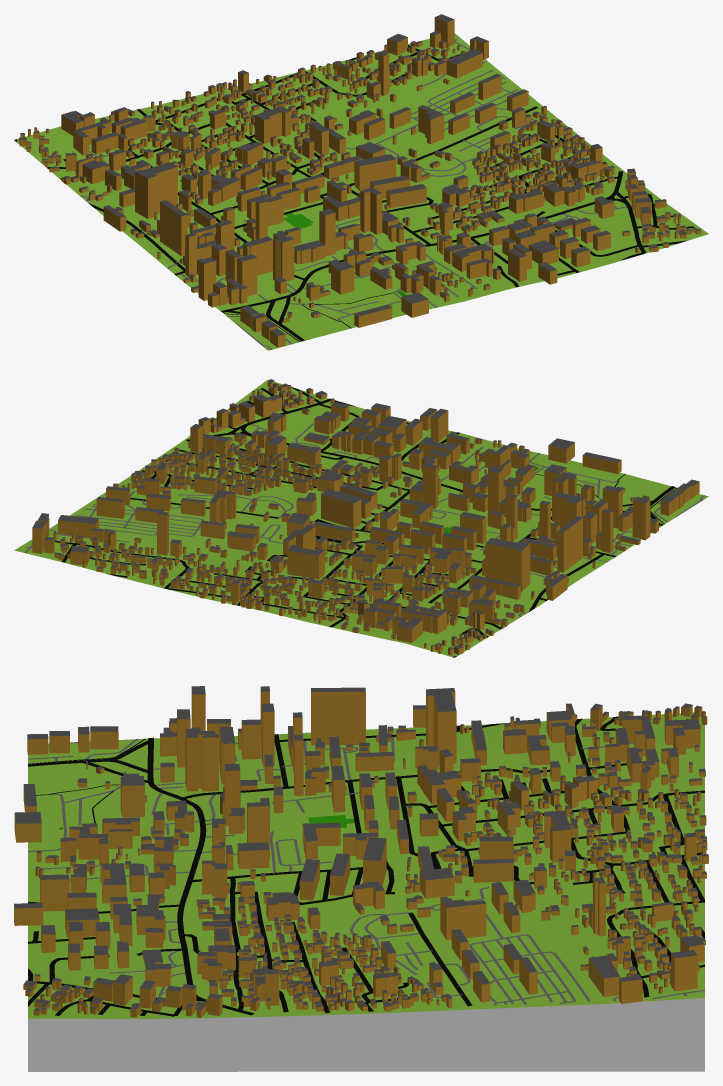
The model's file is tile_11_05.glb.
The picture shows the model from 3 angles, top to bottom: view 1: azimuth 30°, elevation 25°; view 2: azimuth 150°, elevation 25°; view 3: azimuth 270°, elevation 25°; orthographic projection. The views are drawn at different scales.
Parts seen in each view (by area): view 1: Ub_small.osm_buildings_11_05, Terrain_11_05, Ub_small.osm_roads_residential_11_05, Ub_small.osm_roads_service_11_05, Ub_small.osm_roads_secondary_11_05; view 2: Ub_small.osm_buildings_11_05, Terrain_11_05, Ub_small.osm_roads_residential_11_05, Ub_small.osm_roads_service_11_05, Ub_small.osm_roads_secondary_11_05; view 3: Terrain_11_05, Ub_small.osm_buildings_11_05, Ub_small.osm_roads_residential_11_05, Ub_small.osm_roads_service_11_05, Ub_small.osm_roads_secondary_11_05.
Boxes of the visible parts, x1,y1,x2,y2 form: Ub_small.osm_buildings_11_05: (19,14,701,347); Terrain_11_05: (14,33,708,350); Ub_small.osm_roads_residential_11_05: (14,45,693,323); Ub_small.osm_roads_service_11_05: (80,39,627,349); Ub_small.osm_roads_secondary_11_05: (221,171,646,341); Ub_small.osm_buildings_11_05: (32,379,699,655); Terrain_11_05: (14,380,708,657); Ub_small.osm_roads_residential_11_05: (54,387,652,657); Ub_small.osm_roads_service_11_05: (24,423,705,617); Ub_small.osm_roads_secondary_11_05: (186,398,675,525); Terrain_11_05: (28,712,704,1071); Ub_small.osm_buildings_11_05: (14,686,708,1017); Ub_small.osm_roads_residential_11_05: (28,716,704,1016); Ub_small.osm_roads_service_11_05: (28,736,704,1005); Ub_small.osm_roads_secondary_11_05: (28,737,254,1015).
Size of the model in its own units: 946 by 182 by 955.
